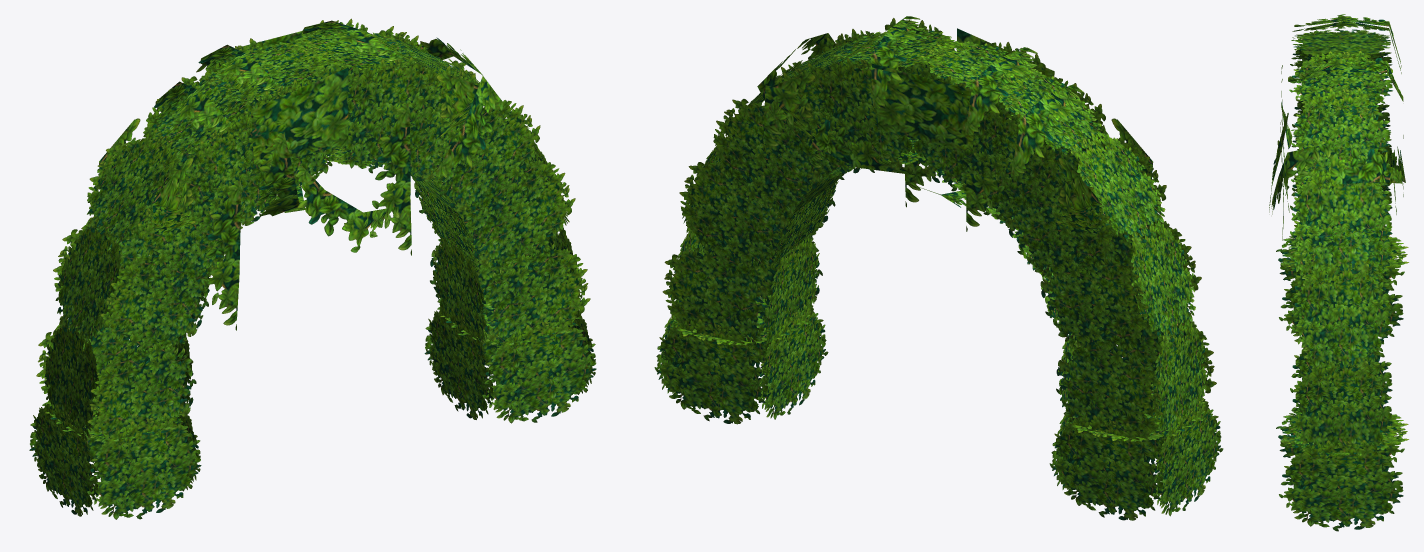
File: Gardingarch1.FBX
The picture shows the model from 3 angles, left to right: view 1: azimuth 30°, elevation 25°; view 2: azimuth 150°, elevation 25°; view 3: azimuth 270°, elevation 25°; orthographic projection. The views are drawn at different scales.
Visible parts, largest first — view 1: Gardingarch1; view 2: Gardingarch1; view 3: Gardingarch1.
Part boxes in pixels (x1,y1,x2,y2): Gardingarch1: (29,18,596,519); Gardingarch1: (654,16,1223,520); Gardingarch1: (1269,14,1408,531).
Bounding box in the file's own units: 8.87 × 6.63 × 2.3.
1 material, 1 textured.
